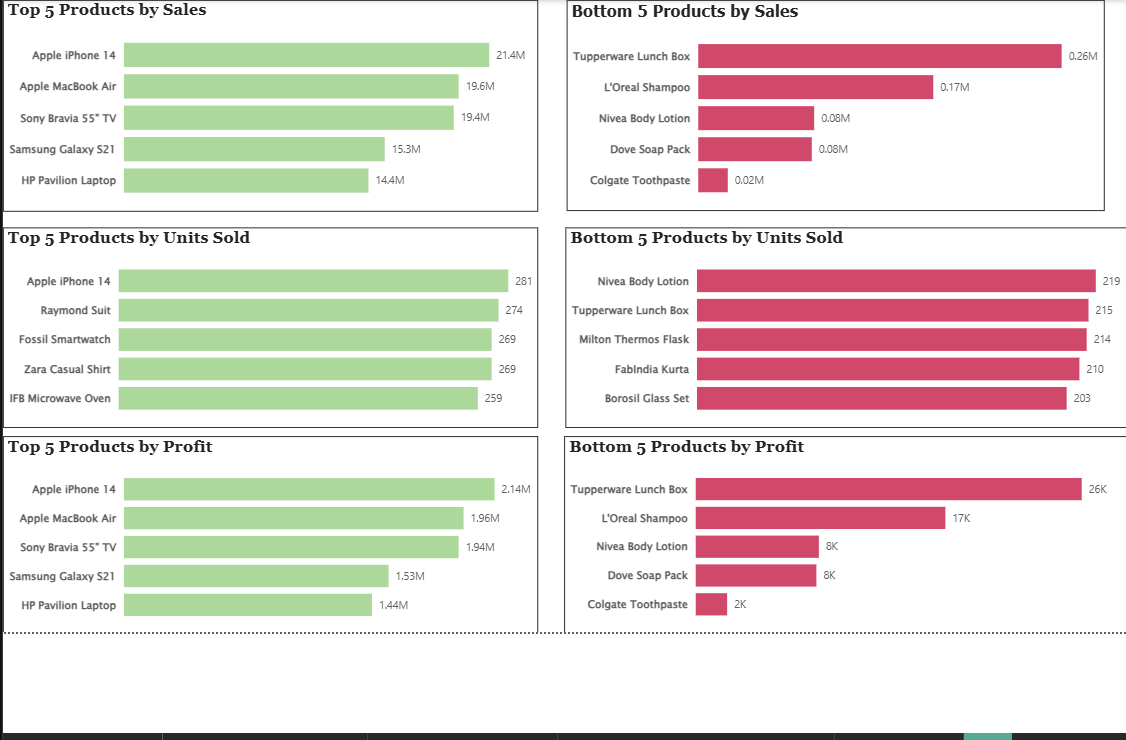

The page's visual inventory and layout, read from the dashboard file:
{"tool":"powerbi","page":{"name":"Top/Bottom 5 Analysis","canvas":[1280,720],"ordinal":0},"visuals":[{"type":"barChart","title":"Top 5 Products by Sales","fields":{"Category":["Dim Product.Product Name"],"Y":["Sum(Fact Table.Net Sales)"]},"box":[0,0,608.8,240.9],"z":0},{"type":"barChart","title":"Bottom 5 Products by Sales","fields":{"Category":["Dim Product.Product Name"],"Y":["Sum(Fact Table.Net Sales)"]},"box":[640.7,0,612.2,240.3],"z":1000},{"type":"barChart","title":"Top 5 Products by Units Sold","fields":{"Category":["Dim Product.Product Name"],"Y":["Sum(Fact Table.Units Sold)"]},"box":[0,258.3,608.8,228],"z":2000},{"type":"barChart","title":"Bottom 5 Products by Units Sold","fields":{"Category":["Dim Product.Product Name"],"Y":["Sum(Fact Table.Units Sold)"]},"box":[640.6,258.3,639.1,228],"z":3000},{"type":"barChart","title":"Top 5 Products by Profit","fields":{"Category":["Dim Product.Product Name"],"Y":["Sum(Fact Table.Profit )"]},"box":[0,496.3,608.8,225.1],"z":4000},{"type":"barChart","title":"Bottom 5 Products by Profit","fields":{"Category":["Dim Product.Product Name"],"Y":["Sum(Fact Table.Profit )"]},"box":[638.9,496.6,640.7,224.3],"z":5000}]}

Visuals, with their boxes on the page's 1280x720 design canvas (x1, y1, x2, y2). These are canvas units, not pixel positions in the 1126x740 screenshot, which may show the page scaled, cropped or inside an application window:
"Top 5 Products by Sales" barChart: box(0, 0, 609, 241)
"Bottom 5 Products by Sales" barChart: box(641, 0, 1253, 240)
"Top 5 Products by Units Sold" barChart: box(0, 258, 609, 486)
"Bottom 5 Products by Units Sold" barChart: box(641, 258, 1280, 486)
"Top 5 Products by Profit" barChart: box(0, 496, 609, 721)
"Bottom 5 Products by Profit" barChart: box(639, 497, 1280, 721)
